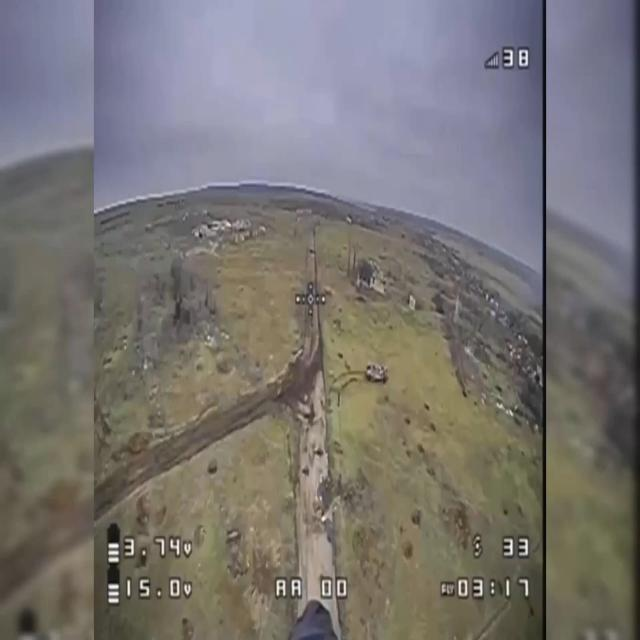apc: (365, 365, 389, 383)
cars: (310, 245, 314, 254)
